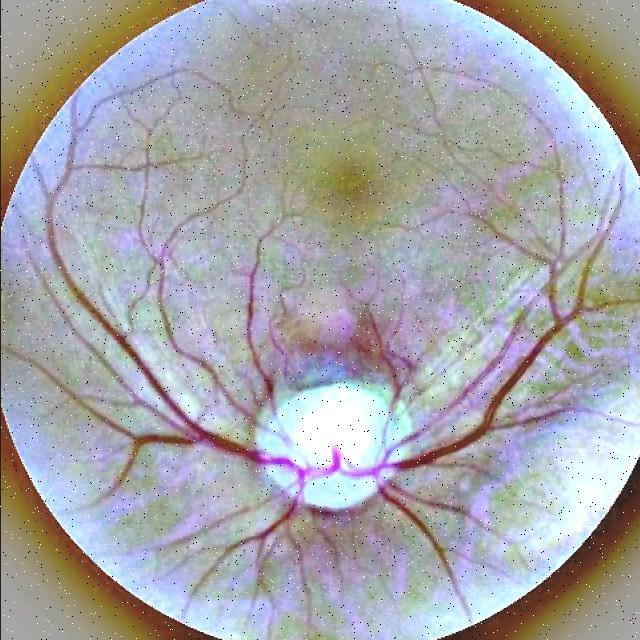Macula: (287, 144, 401, 237)
Nerves: (56, 244, 640, 481)
Optic Disk: (226, 350, 441, 529)
